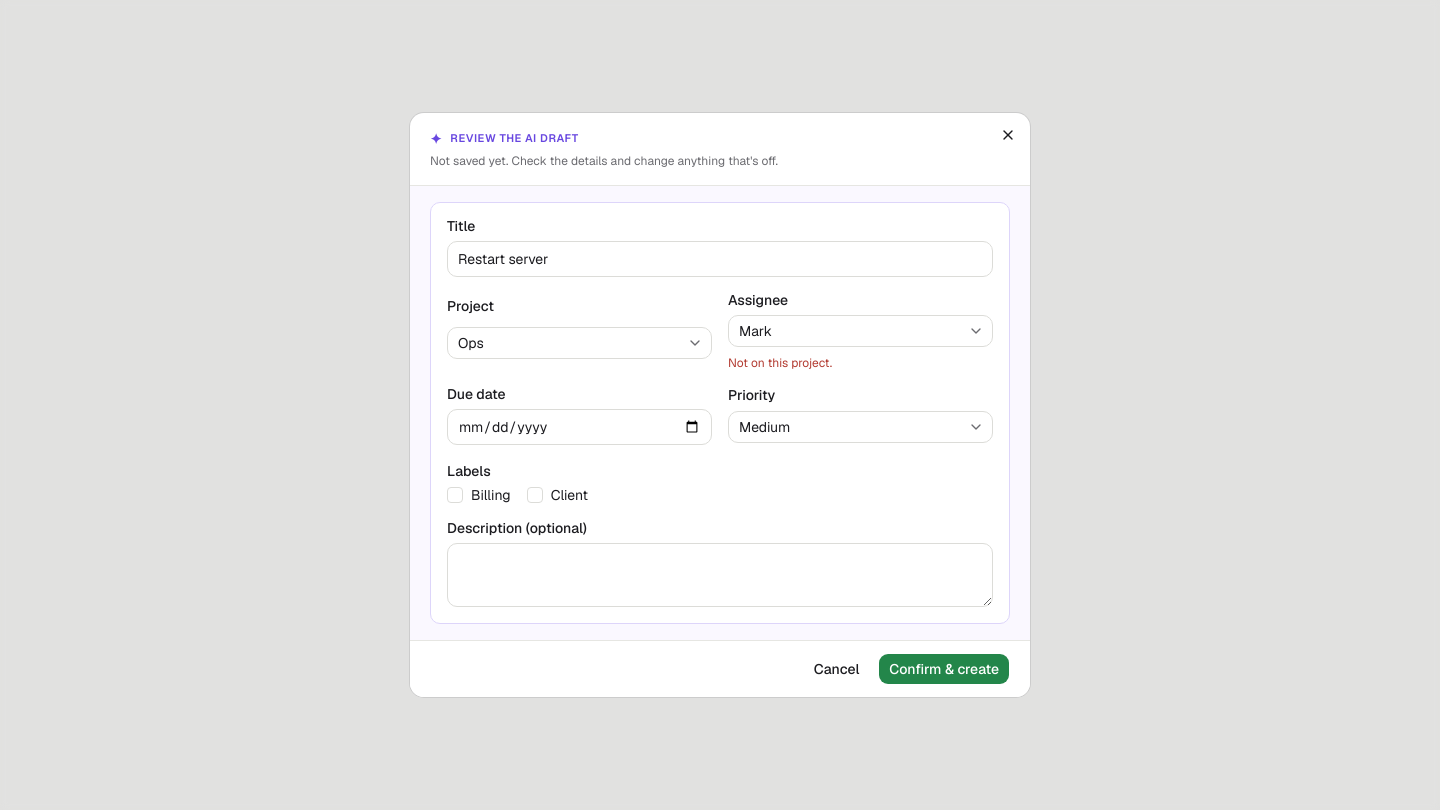
Test case: QuickAddPreview › blocks an assignee who isn't on the chosen project
Expected: the text "Not on this project." is shown, [728,355,832,371]
Click the button "Confirm & create": (944, 669) [878,653,1010,685]
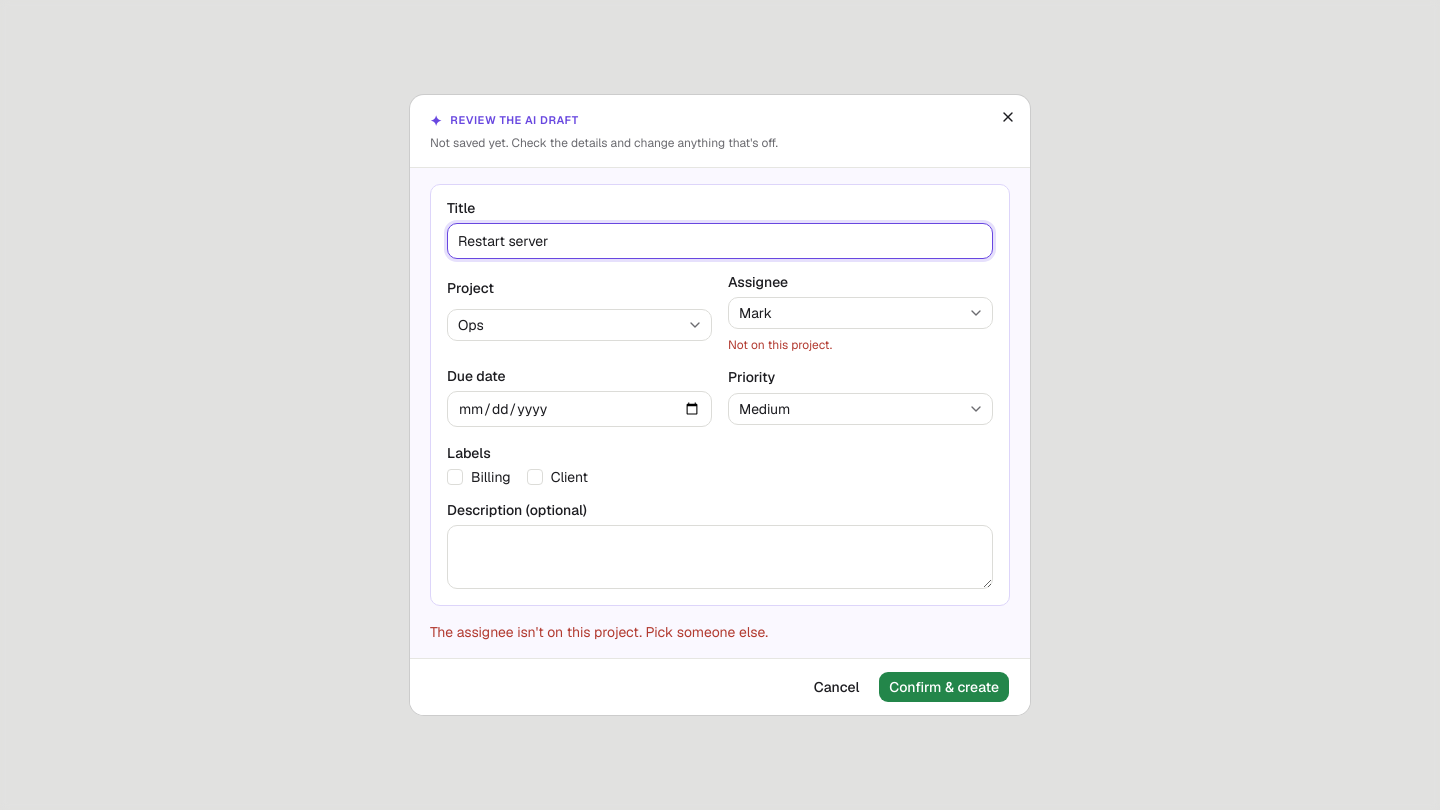
Result: the message shows "isn't on this project" at [430,623,768,641]
